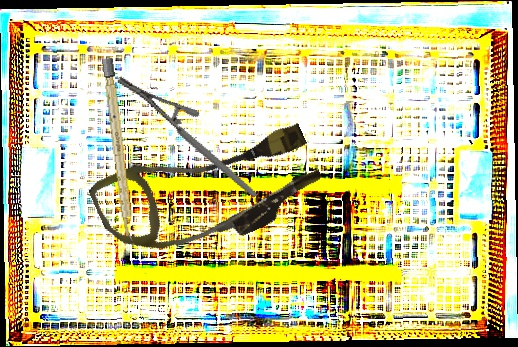Cannula: (86, 97, 331, 286)
Needle Holder: (114, 46, 259, 229)
Scalpel Handle: (101, 57, 136, 242)
